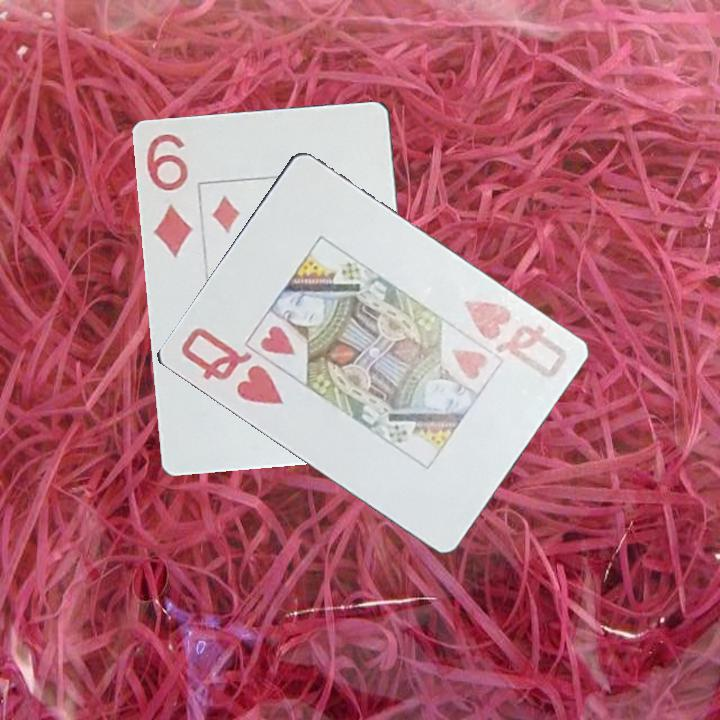6d: (143, 130, 197, 261)
Qh: (176, 321, 287, 408), (459, 296, 570, 381)
